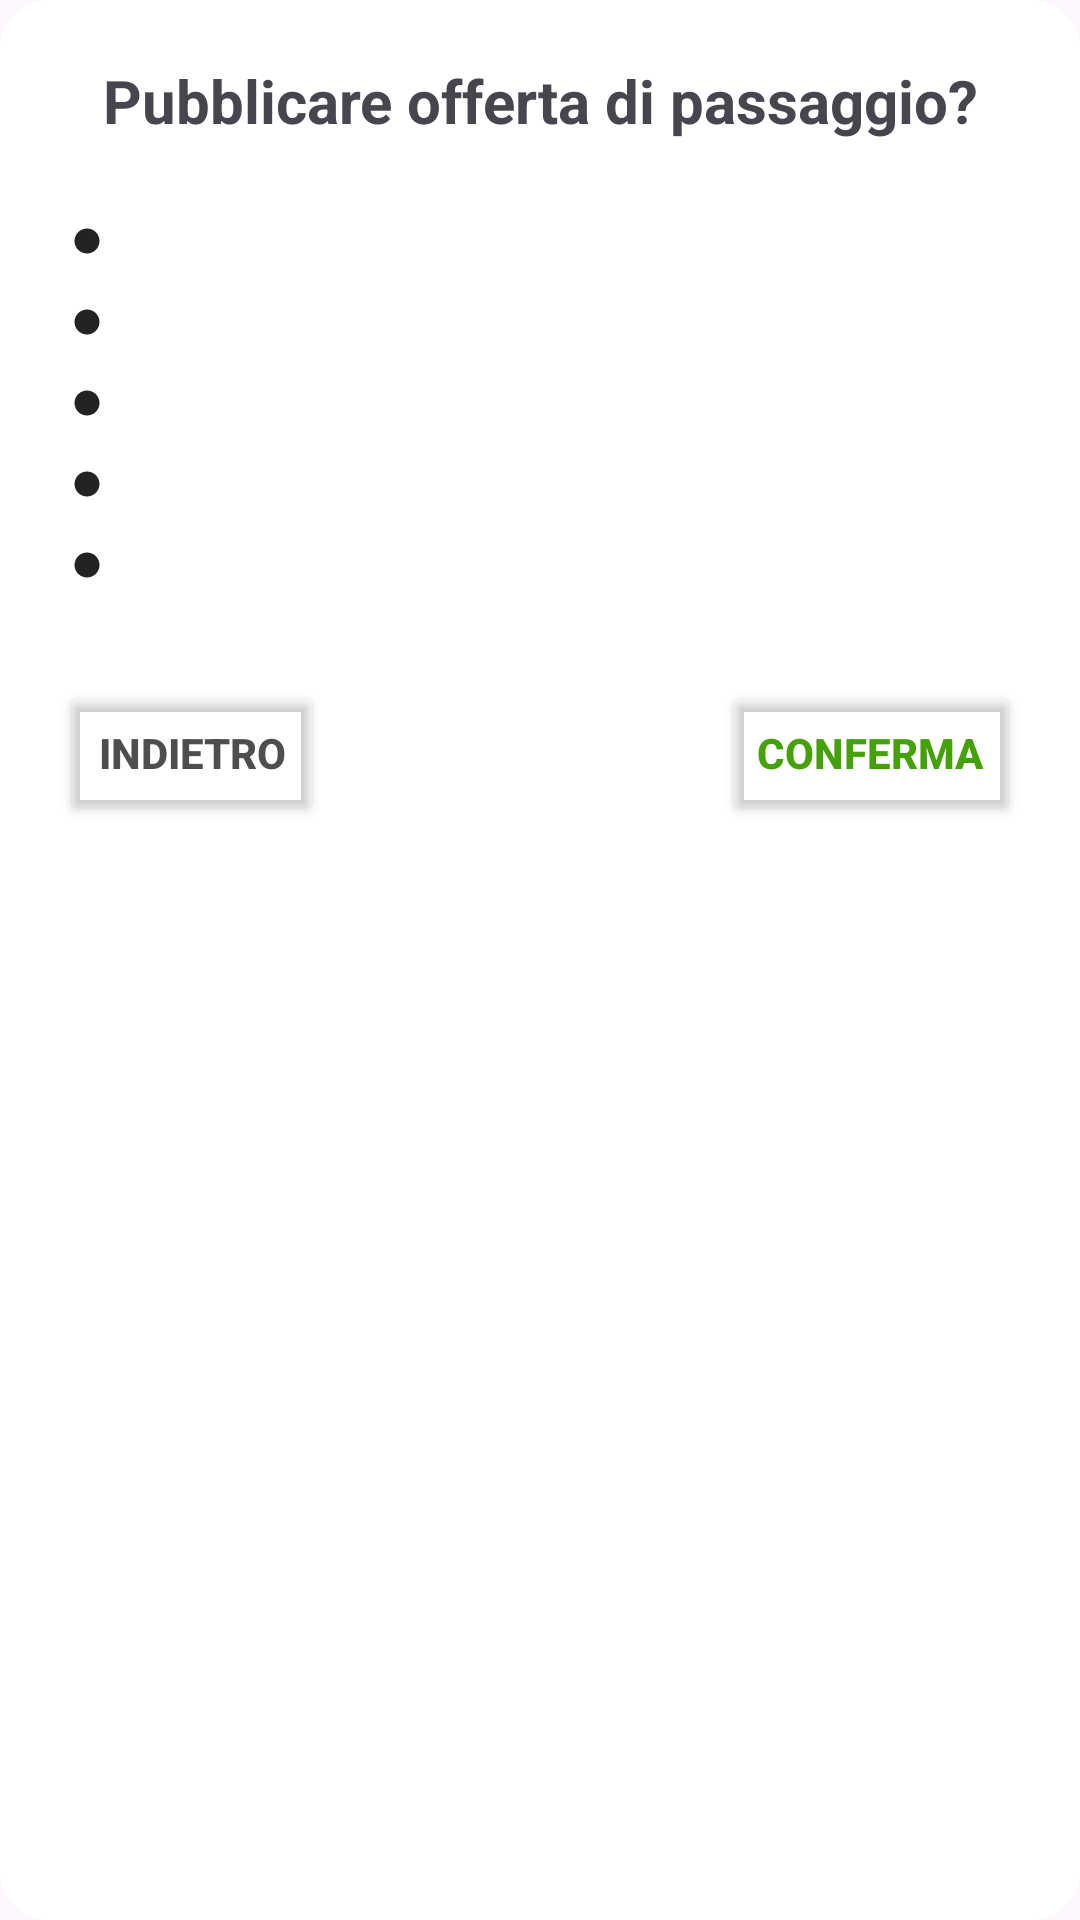

Screen size 1080w x 1920h. Icon name, then its center in pixels as [x,y]:
bullet point: [87,241], [87,322], [87,403], [87,484], [87,565]
